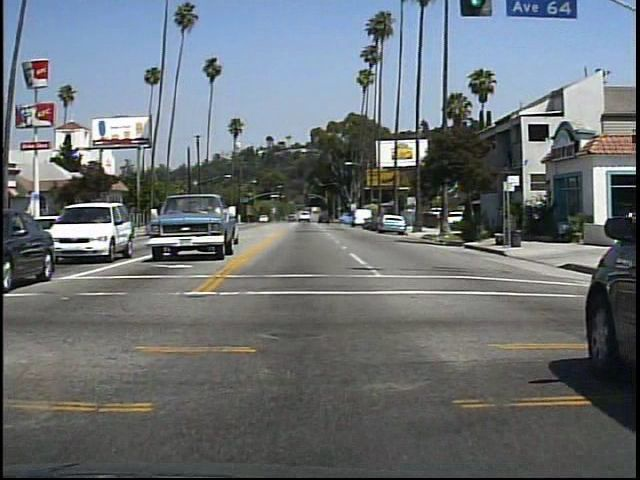person: (476, 199, 498, 244)
